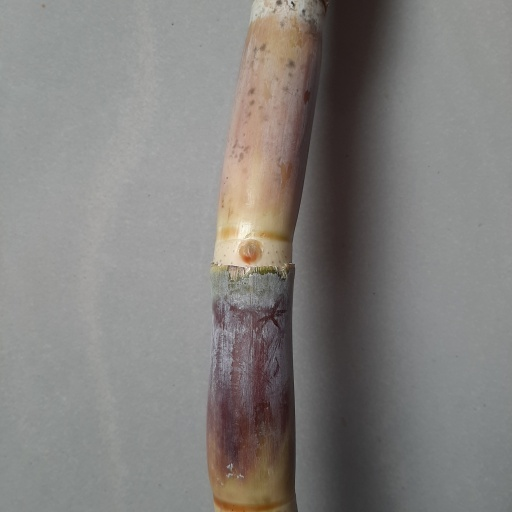Bud: (236, 240, 266, 263)
